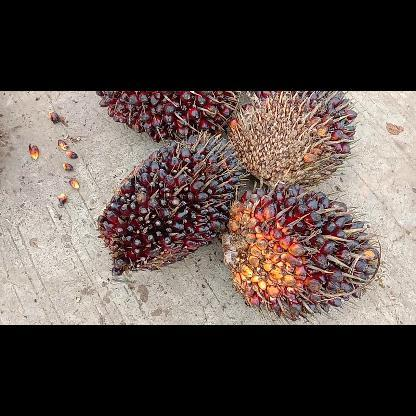TBS mentah: (221, 183, 386, 323), (96, 132, 247, 274), (229, 91, 357, 189), (95, 91, 241, 143)
